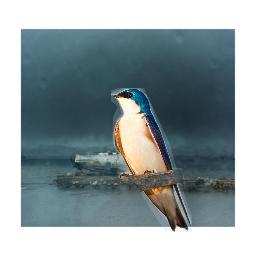Swallow: (111, 88, 192, 232)
